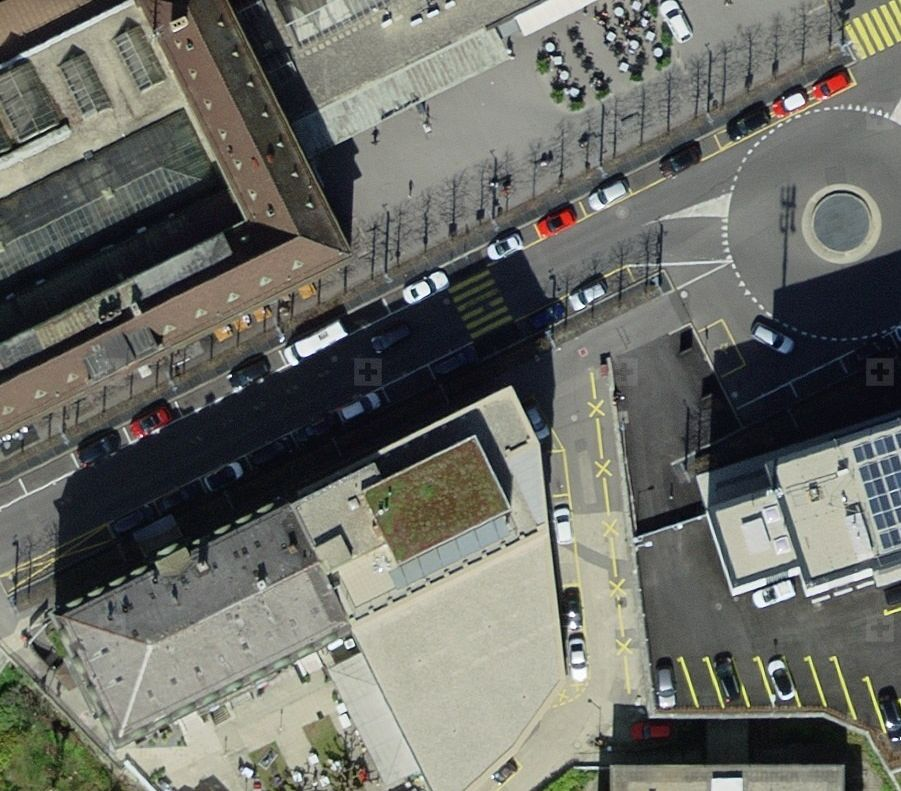solar: (852, 431, 901, 551)
